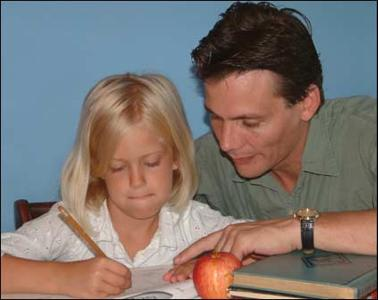person: (3, 74, 261, 298)
